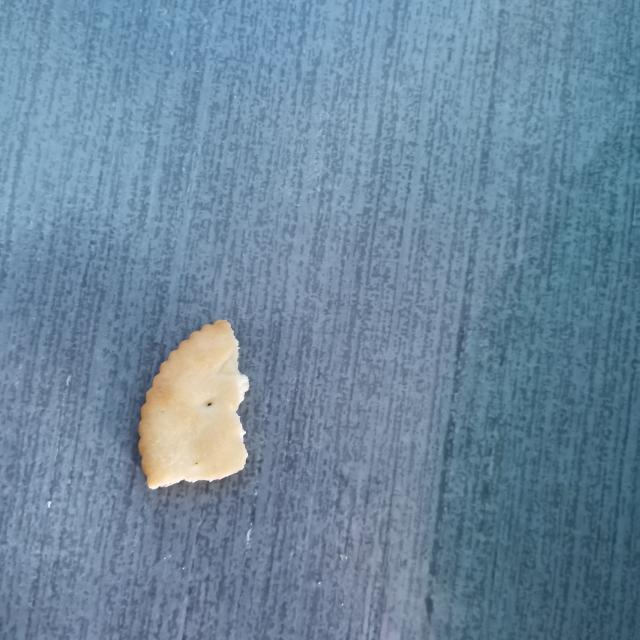Broken: (137, 318, 251, 490)
